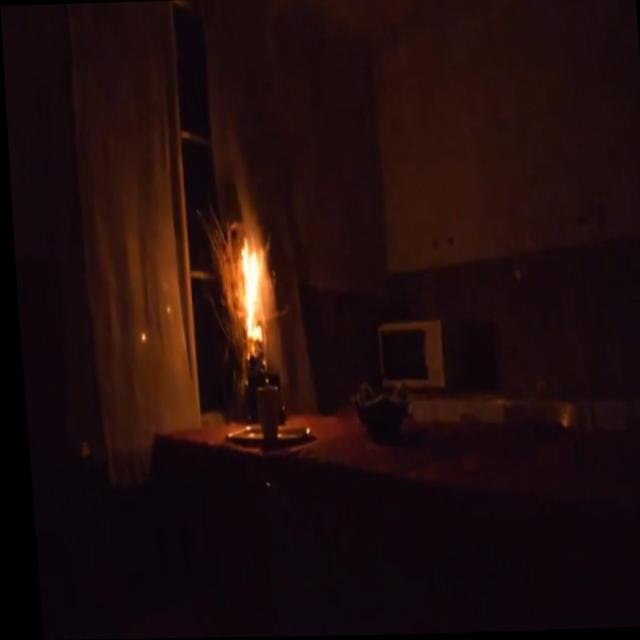fire: (230, 226, 278, 353)
